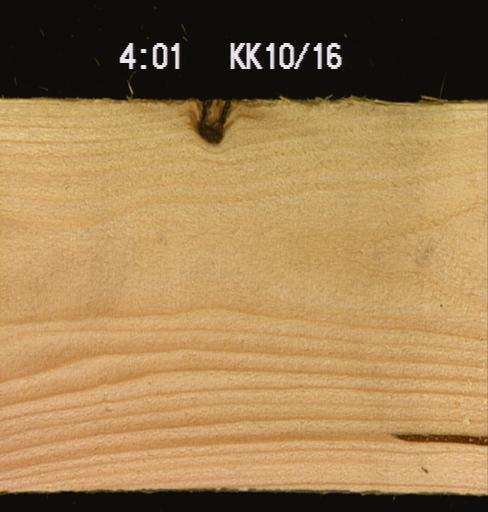edge_knot: (183, 98, 236, 144)
